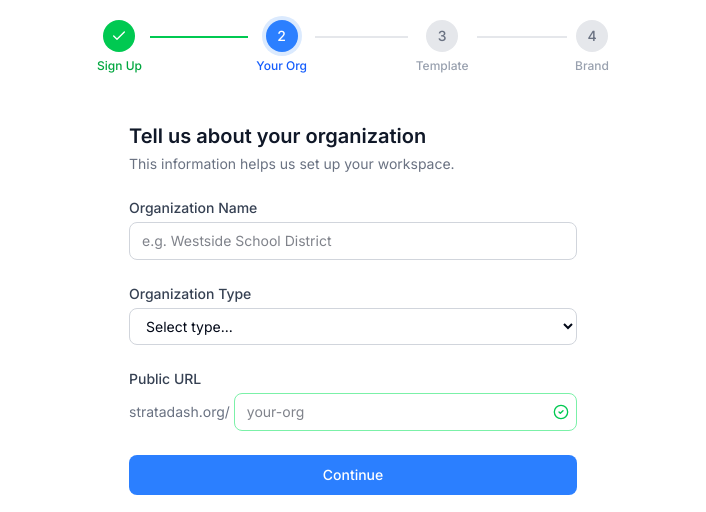
Test case: V2OnboardingWizard › progresses to step 2 after org creation
# Fill in step 1
Type "Test Organization" into the field labelled "Organization Name". click: (353, 241)
box: [129, 222, 577, 260]
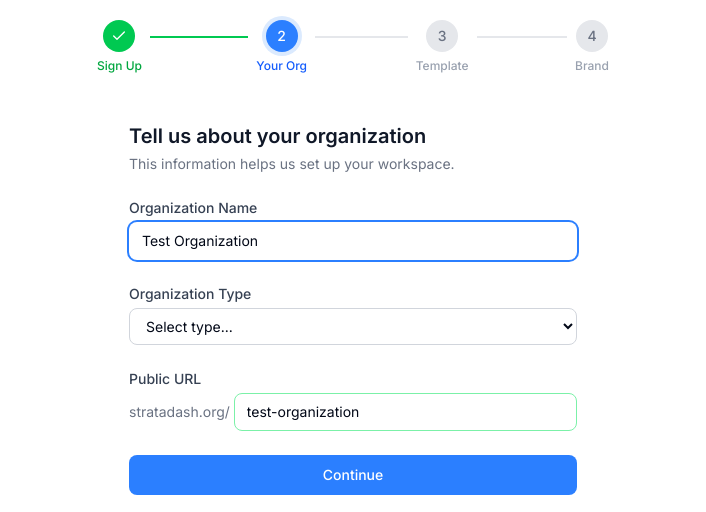
Select "School District" in the dropdown labelled "Organization Type". click: (353, 326)
box: [129, 308, 577, 345]
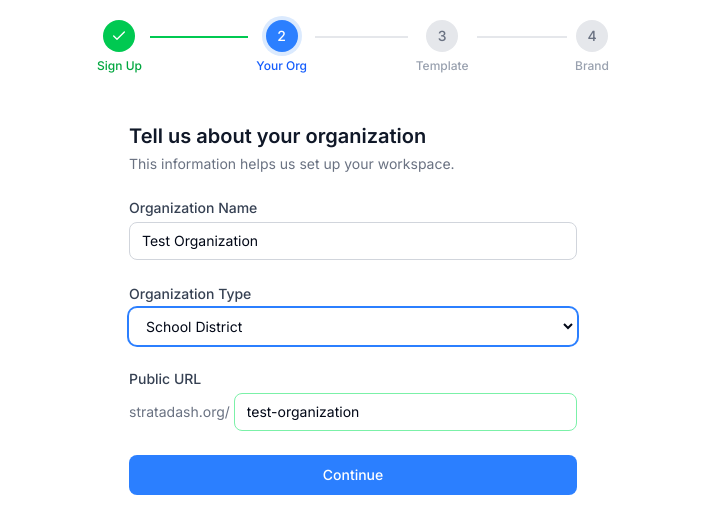
Click the button "Continue". click: (353, 475)
box: [129, 455, 577, 495]
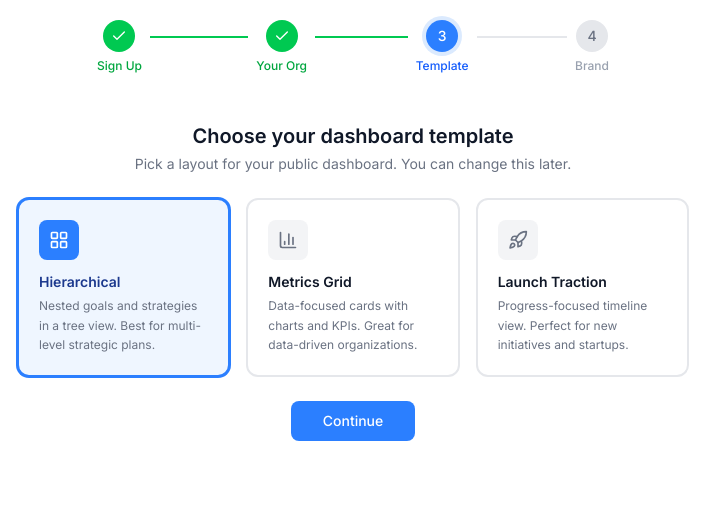
Expected: the heading "Choose your dashboard template" is shown, [192, 124, 514, 148]
